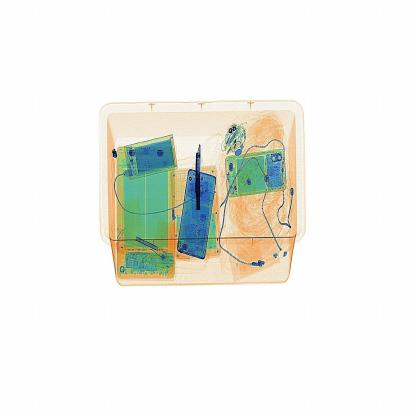pliers: (188, 136, 218, 213)
